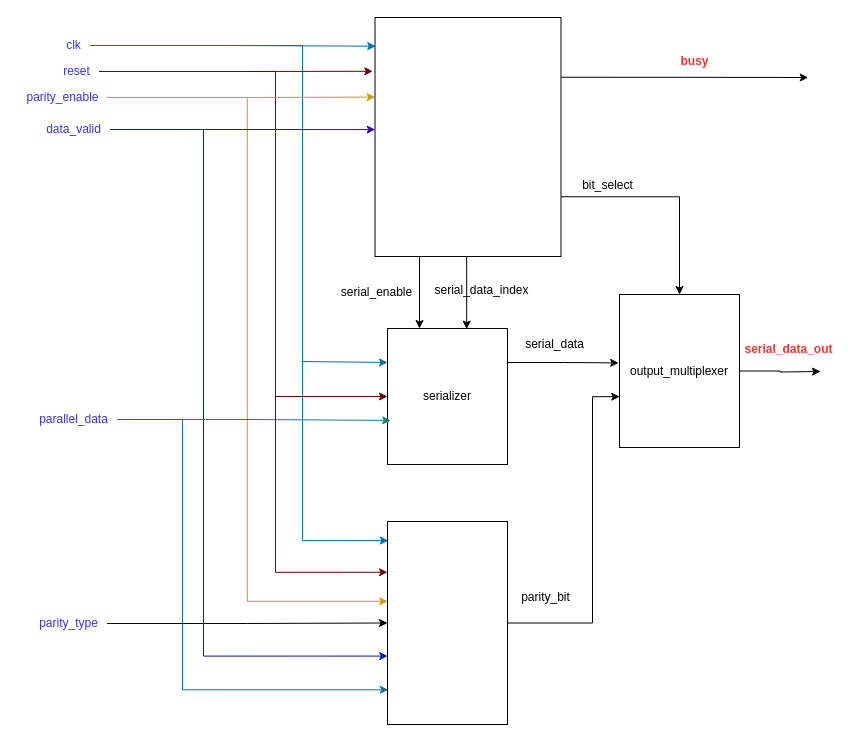
Some shapes in this 859 by 742 pixel diagram are drawn without their labels. The box of each missing label's shape, as (x1, y1, x2, y2) in pixels:
parity_calculator: (386, 520, 508, 724)
UART_transmitter_FSM: (374, 16, 561, 256)
